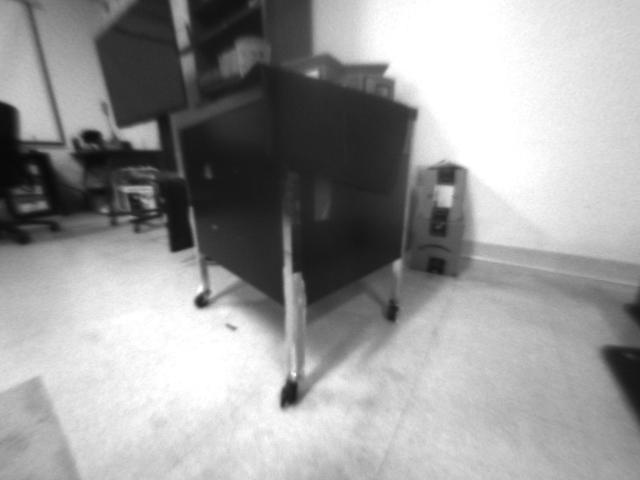coffee_cup: (233, 38, 277, 82)
